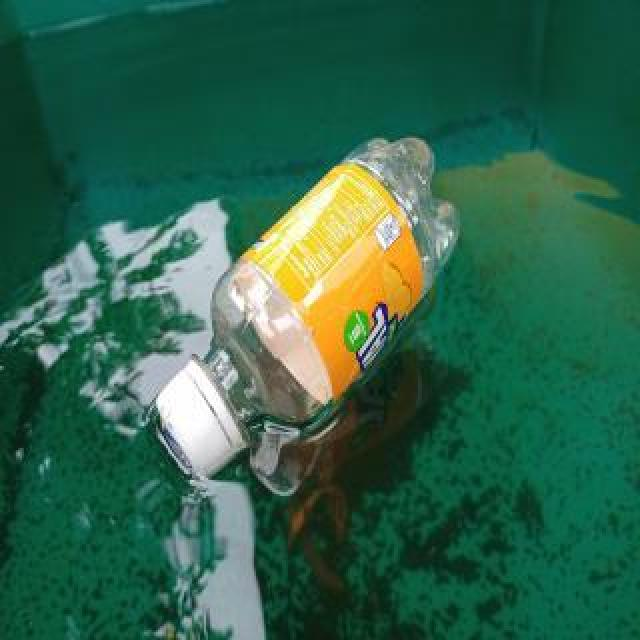bottle: (153, 129, 463, 483)
